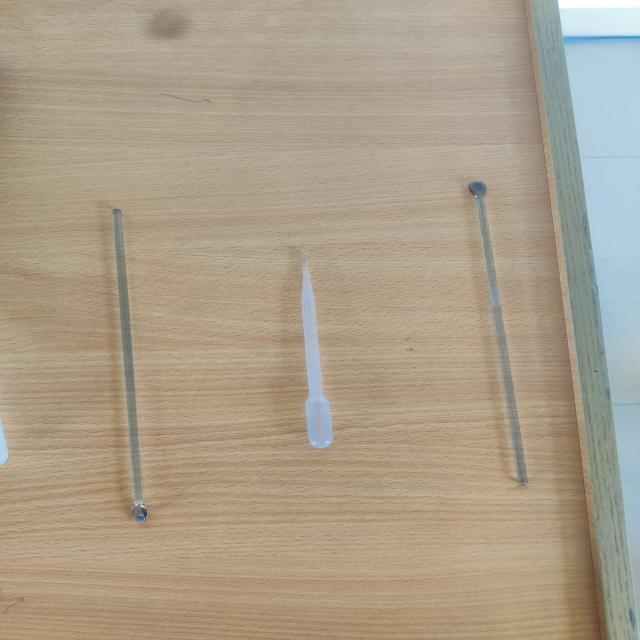Glass_Rod: (434, 133, 586, 512), (68, 182, 202, 558)
Pipette: (273, 236, 369, 473)
